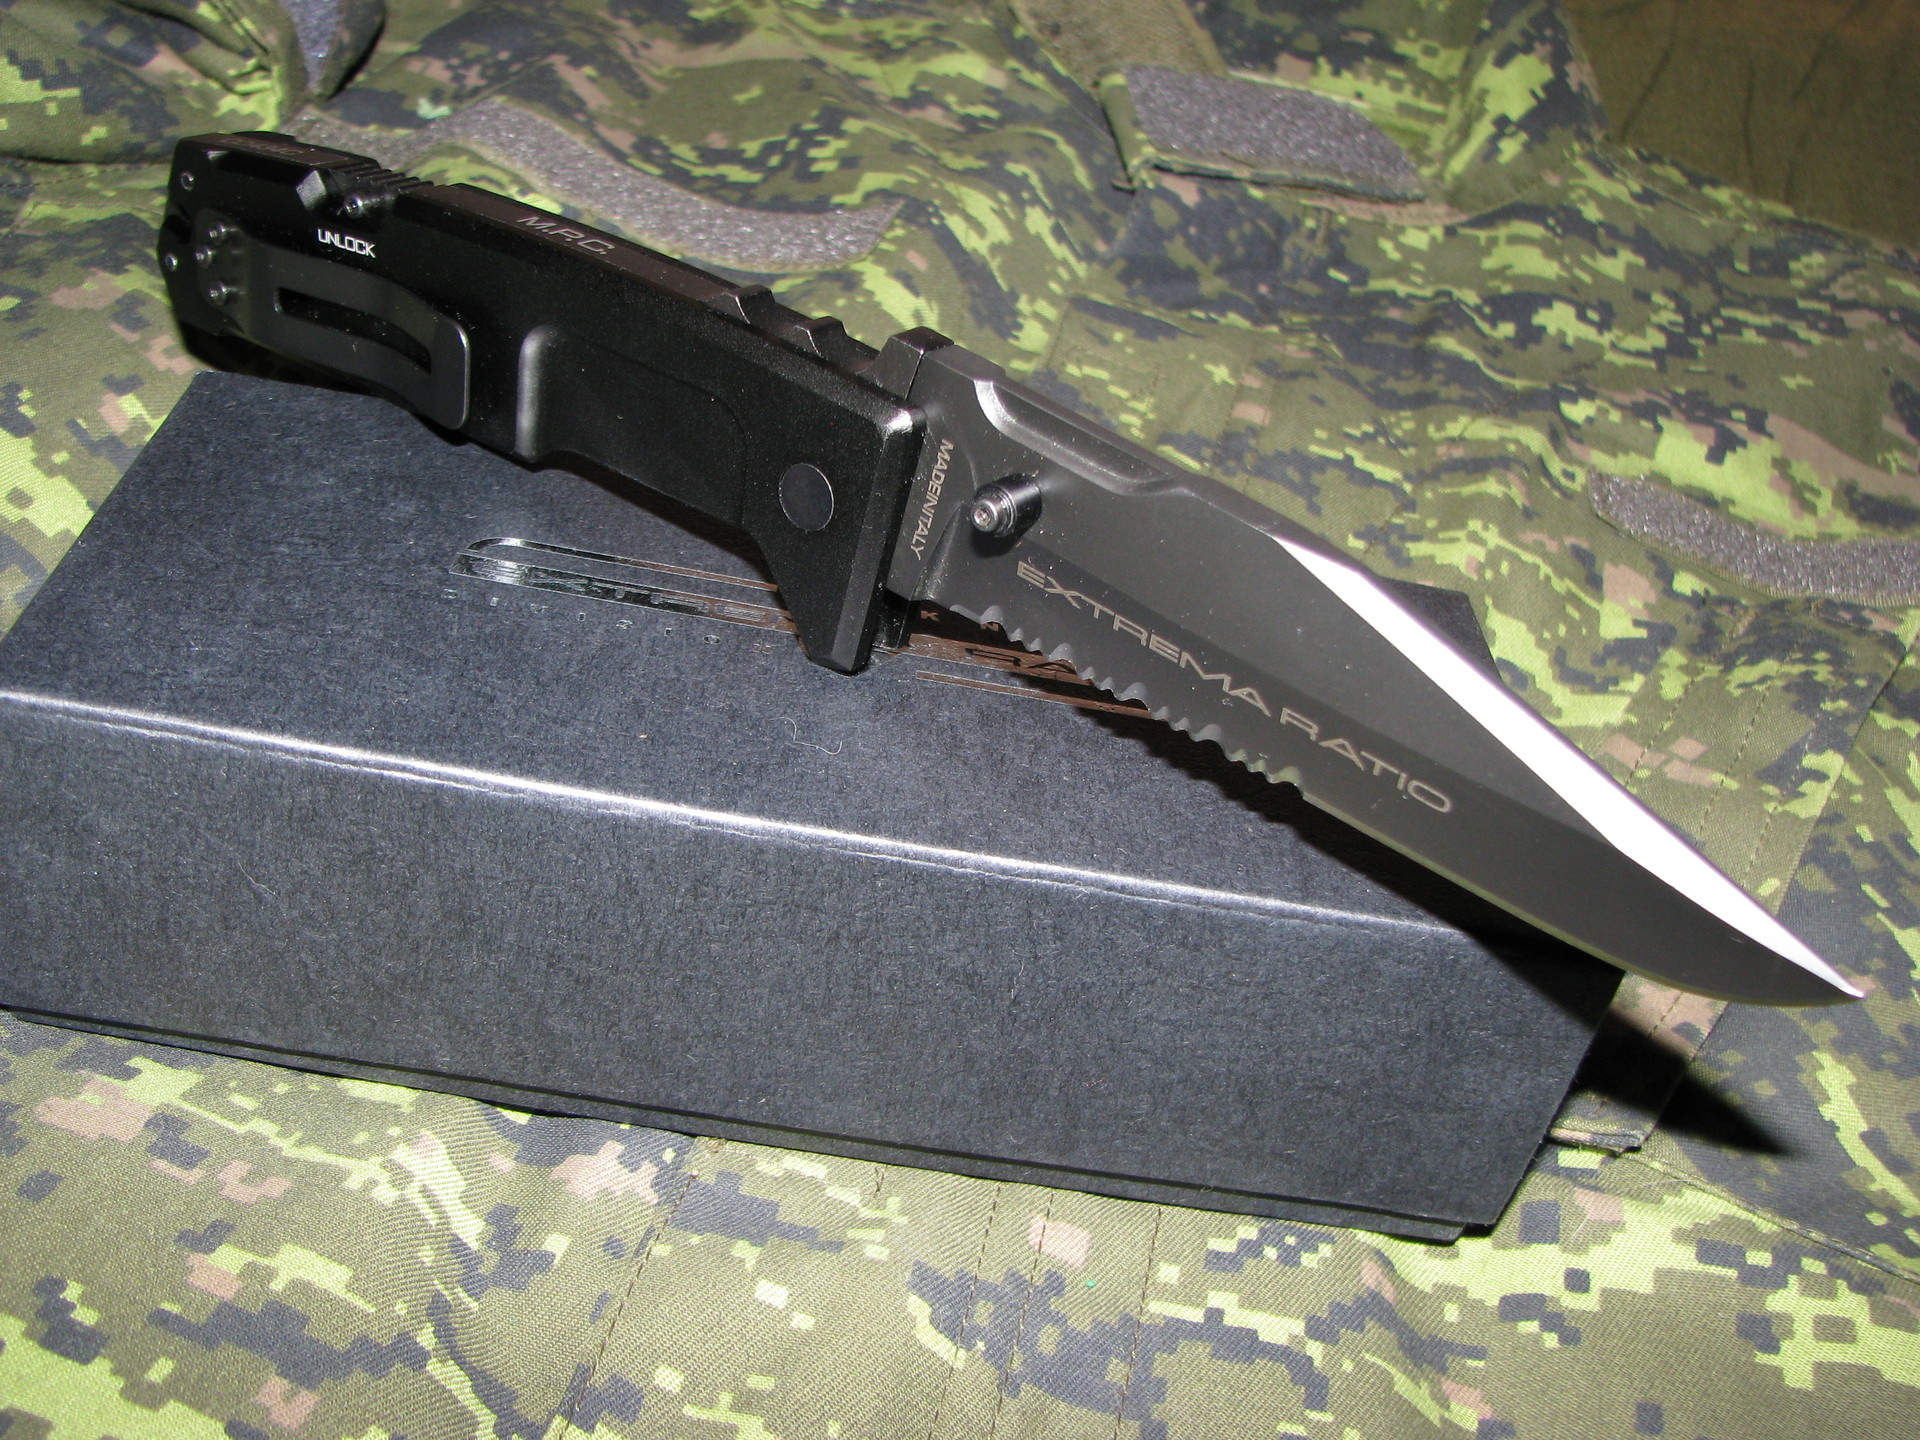knife: (831, 304, 1888, 1018)
